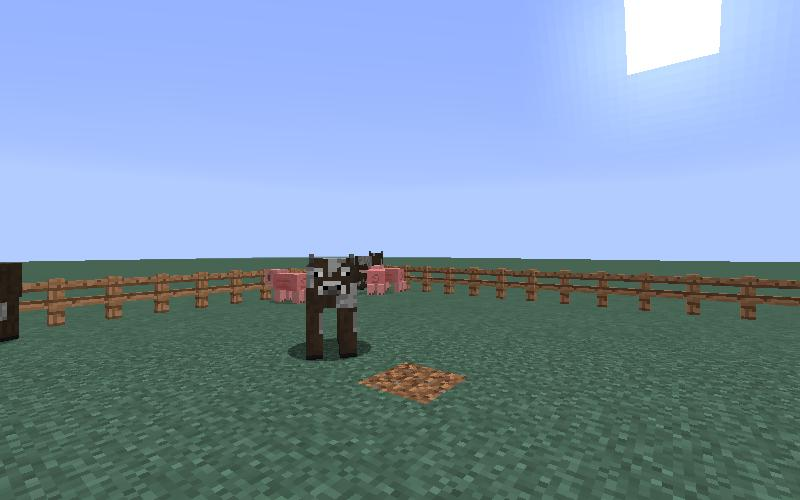cow: (303, 252, 360, 362)
pig: (262, 264, 304, 308), (366, 268, 388, 296), (388, 265, 408, 293)
